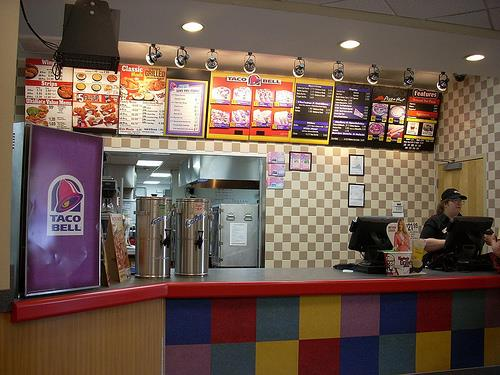Taco_Bell: (42, 168, 91, 240)
